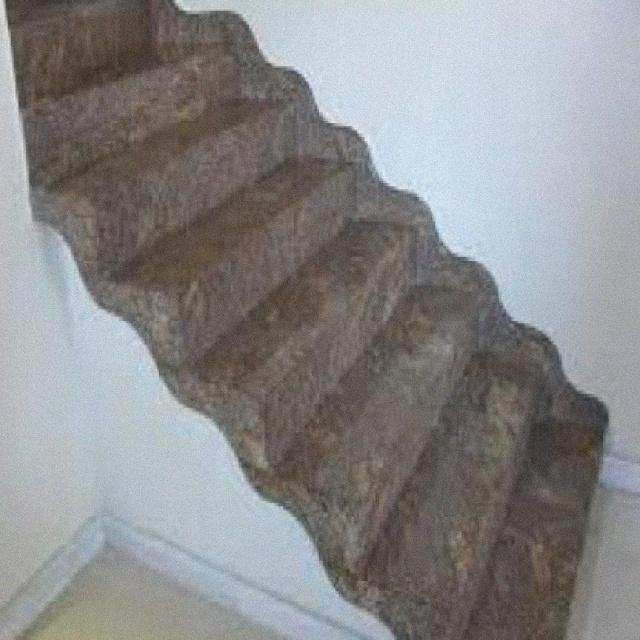stair: (2, 0, 598, 637)
